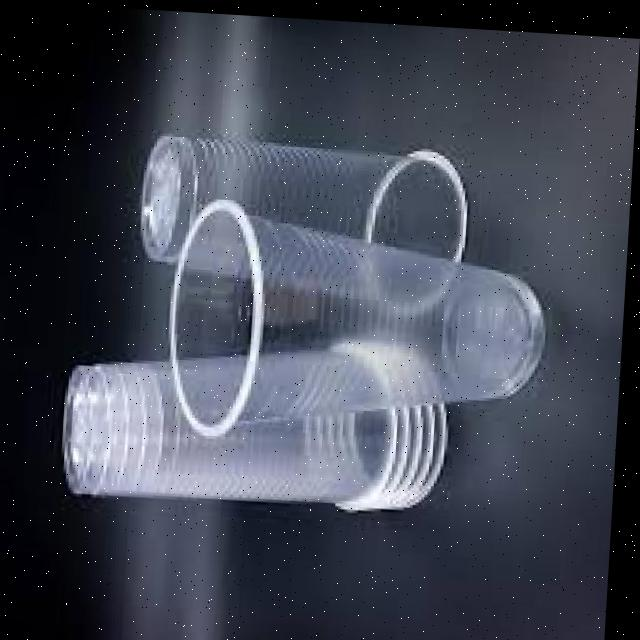cup: (158, 201, 575, 445)
